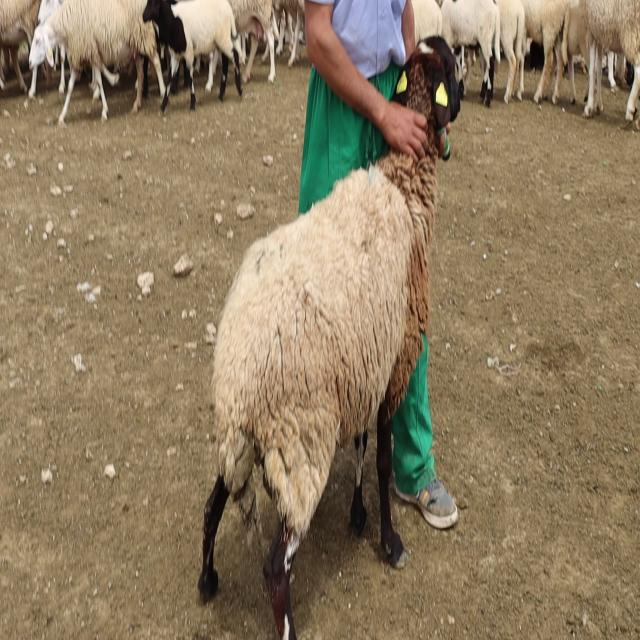Score_2: (198, 37, 460, 639)
